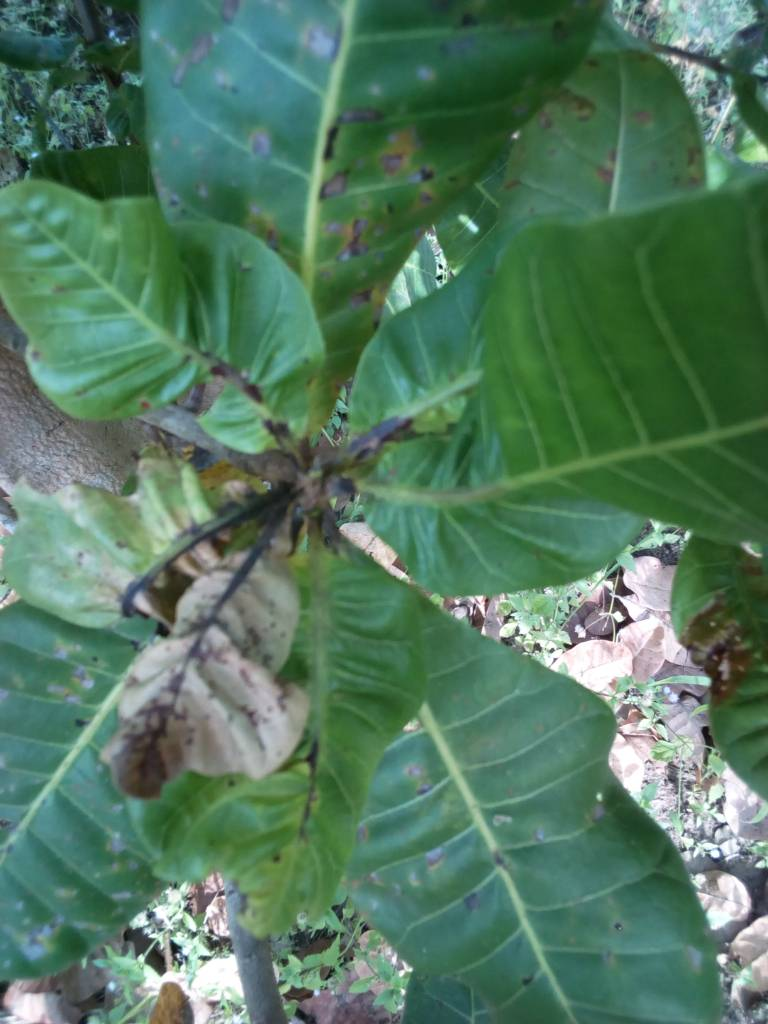Die-black: (90, 538, 332, 824)
